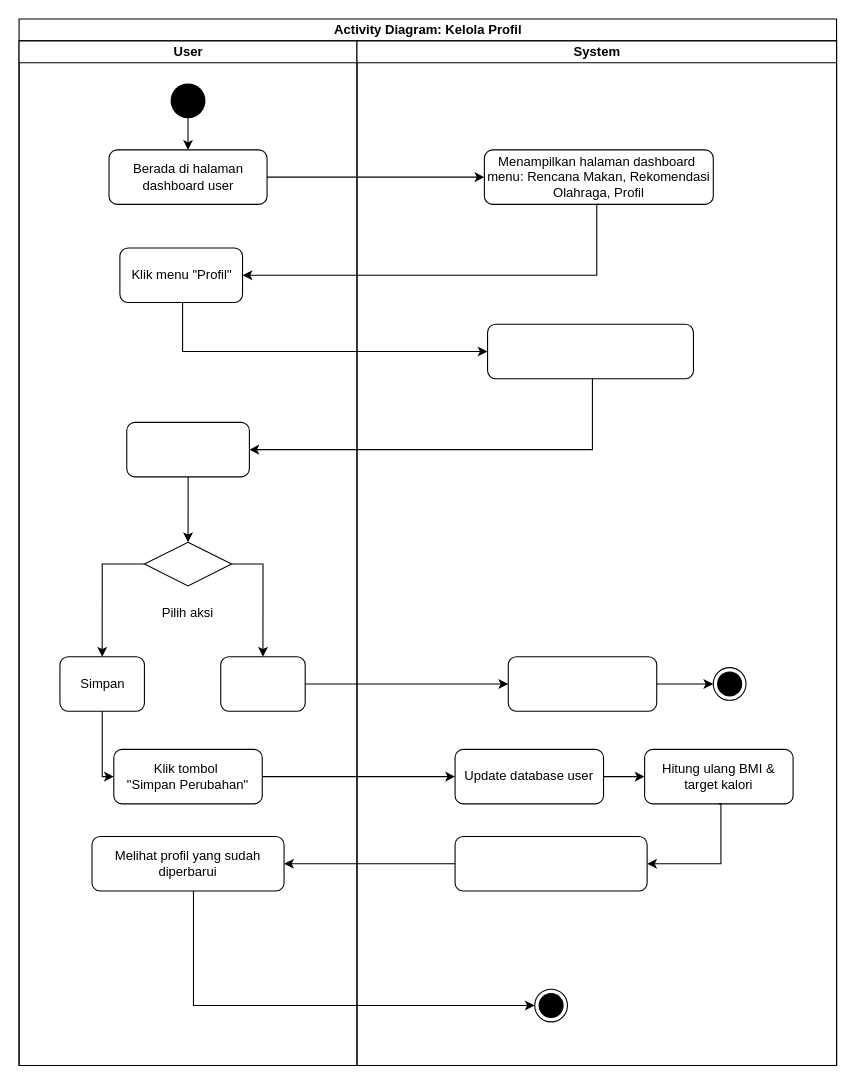
The diagram is 856 pixels wide and 1085 high, and some of its shapes have lost their labels. The shapes that lost their labels are listed below. From the top down, each one's centre as x and y in pixels, then its label:
pixel 589 351: Menampilkan halaman profil
pixel 187 449: Mengedit data
pixel 262 683: Batalkan
pixel 582 683: Menghapus semua perubahan
pixel 550 863: Menampilkan notifikasi "Data Profil Berhasil Diperbarui"
